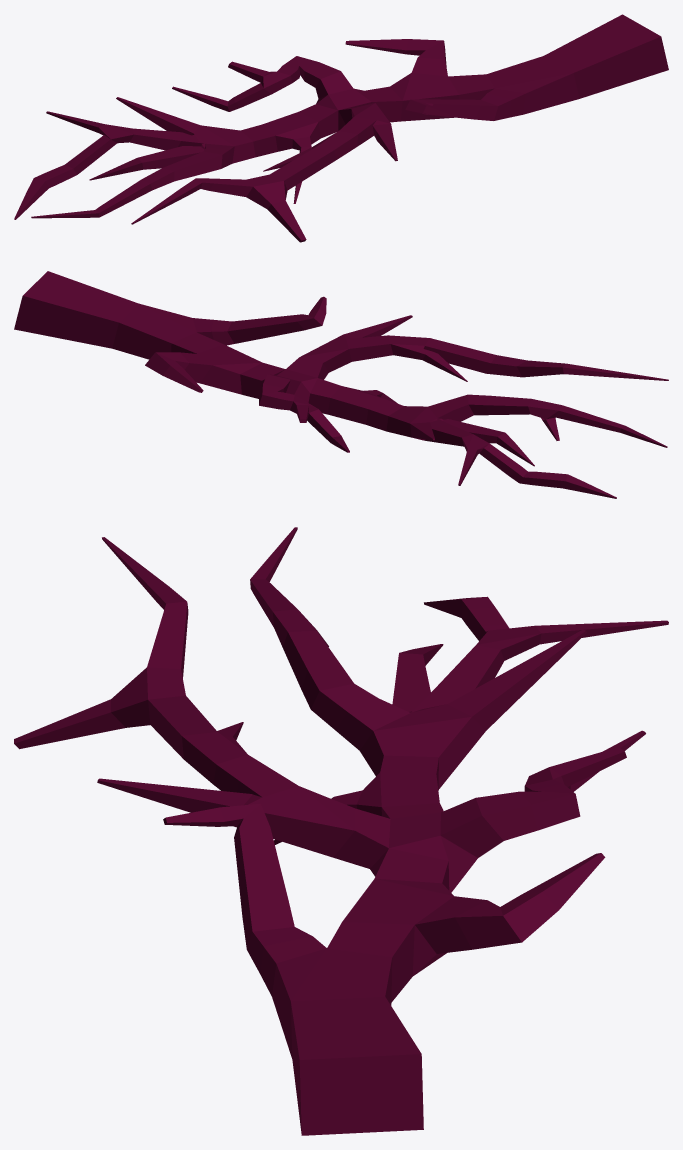
File: big_root_v0.1.fbx
3 views of the same model, one above another, from view 1: azimuth 30°, elevation 25°; view 2: azimuth 150°, elevation 25°; view 3: azimuth 270°, elevation 25° (orthographic). The views are drawn at different scales.
Visible parts, largest first — view 1: Cube.001; view 2: Cube.001; view 3: Cube.001.
Boxes of the visible parts, x1=… form: Cube.001: x1=14, y1=14, x2=668, y2=242; Cube.001: x1=14, y1=271, x2=668, y2=498; Cube.001: x1=14, y1=527, x2=668, y2=1135.
Size of the model in its own units: 1286 by 152 by 603.
